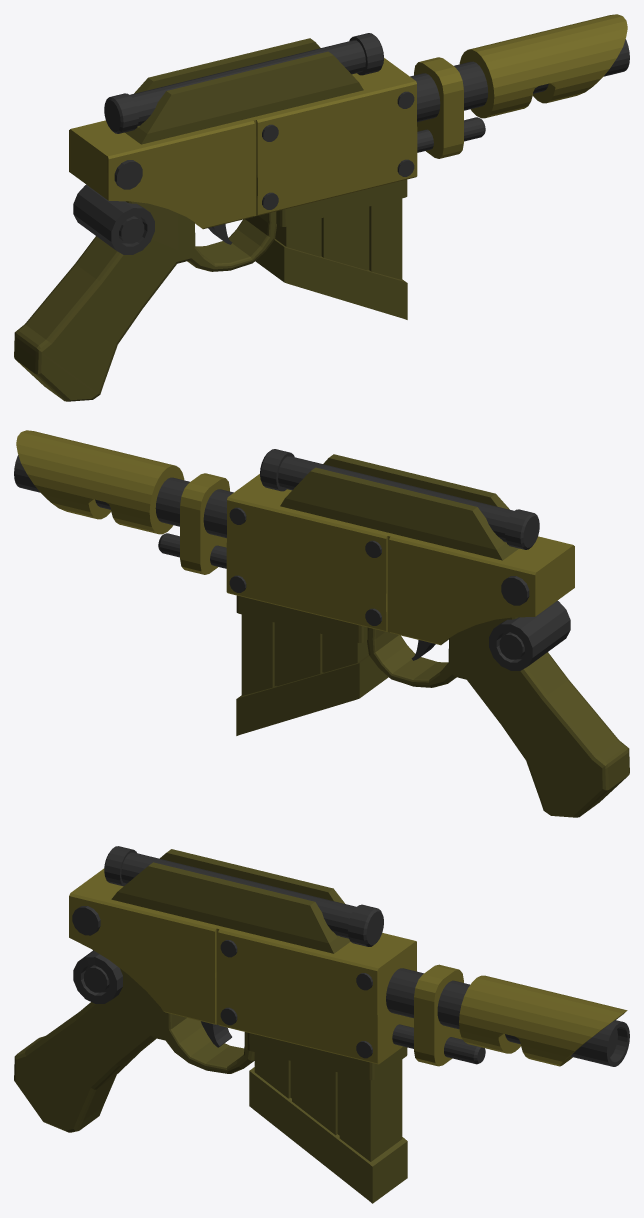
Rendered from Voss_Pattern_Hellpistol_Yellow.fbx.
The picture shows the model from 3 angles, top to bottom: view 1: azimuth 30°, elevation 25°; view 2: azimuth 150°, elevation 25°; view 3: azimuth 330°, elevation 25°; orthographic projection.
Parts seen in each view (by area): view 1: Voss_Pattern_Hellpistol_Yellow; view 2: Voss_Pattern_Hellpistol_Yellow; view 3: Voss_Pattern_Hellpistol_Yellow.
Part boxes in pixels (<box>): Voss_Pattern_Hellpistol_Yellow: <box>14,14,629,401</box>; Voss_Pattern_Hellpistol_Yellow: <box>14,430,629,817</box>; Voss_Pattern_Hellpistol_Yellow: <box>14,846,629,1203</box>.
Size of the model in its own units: 63.41 by 29.03 by 8.17.
